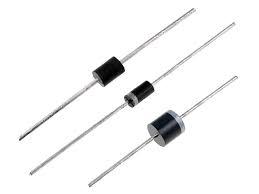diode: (136, 105, 197, 154), (115, 80, 163, 113)
